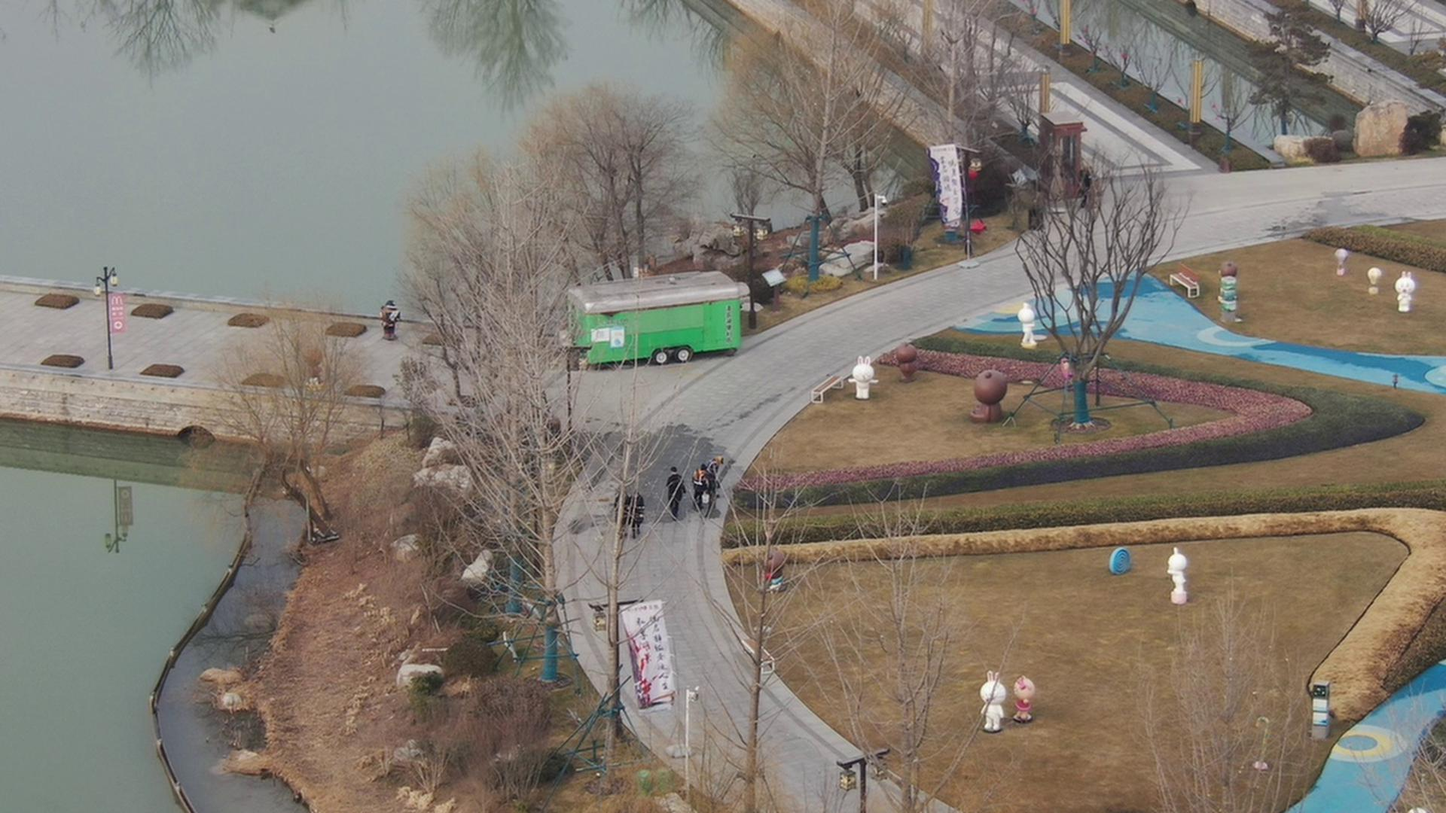class_2: (685, 452, 722, 516), (612, 488, 644, 547)
human: (663, 464, 682, 534)
